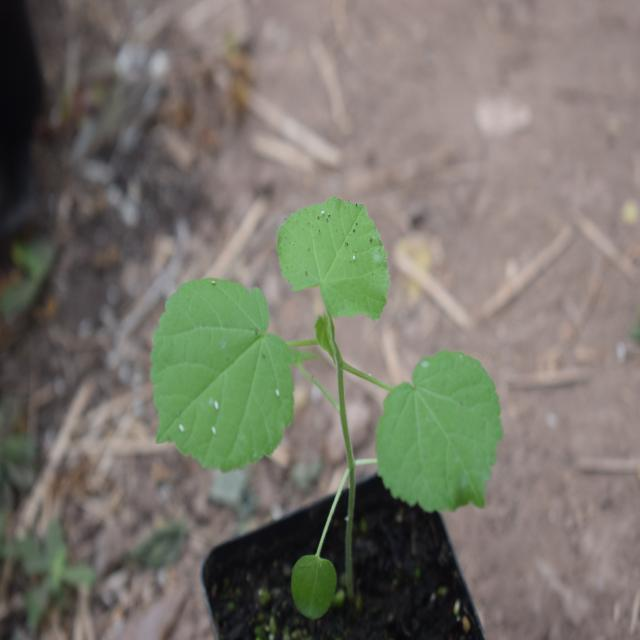abutilon theophrasti: (144, 181, 509, 574)
